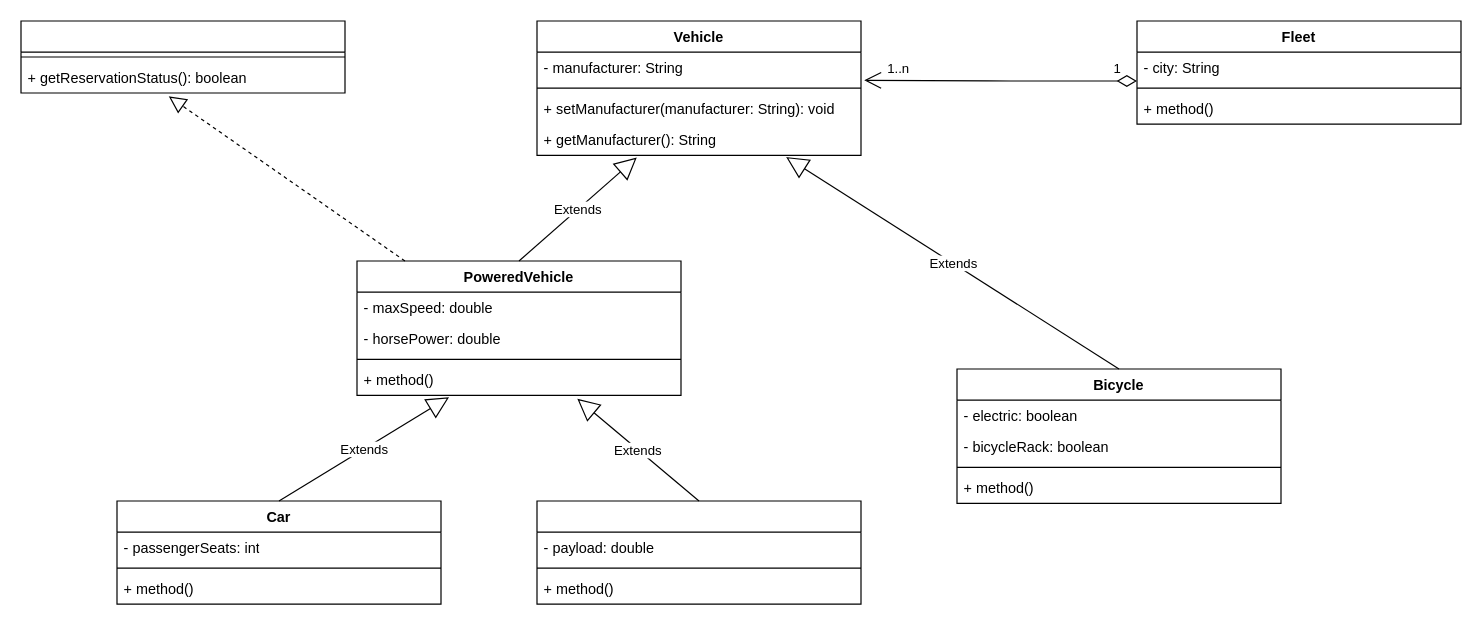
This 1482x629 diagram has some shape labels left out. Each missing label, with the box of its shape:
Reserveable: (20, 20, 345, 93)
Truck: (536, 500, 861, 604)
